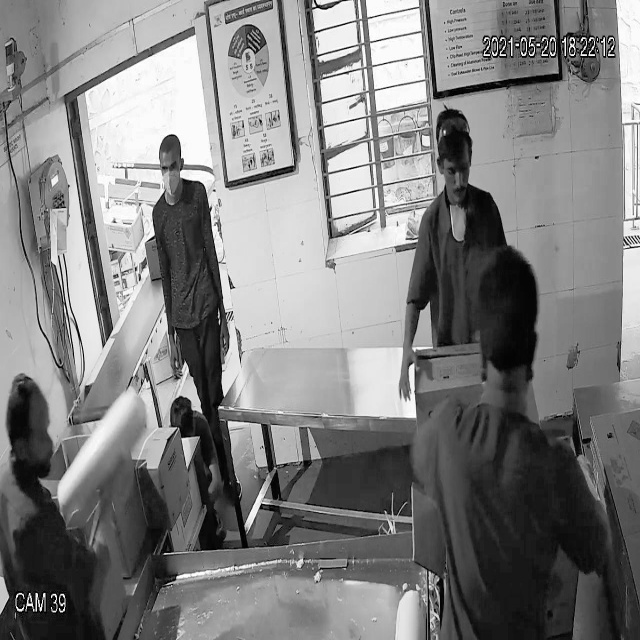Sin_gafas: (432, 147, 474, 187), (158, 161, 185, 176)
